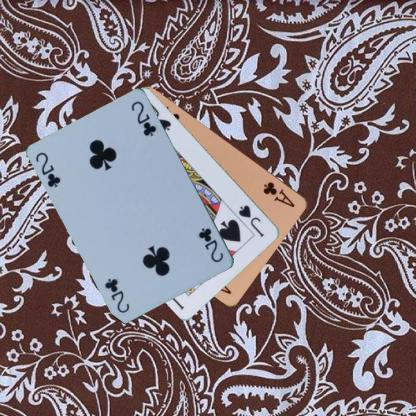2c: (196, 225, 225, 264), (33, 150, 62, 189)
Ac: (260, 178, 296, 209)
Js: (236, 202, 266, 239)
